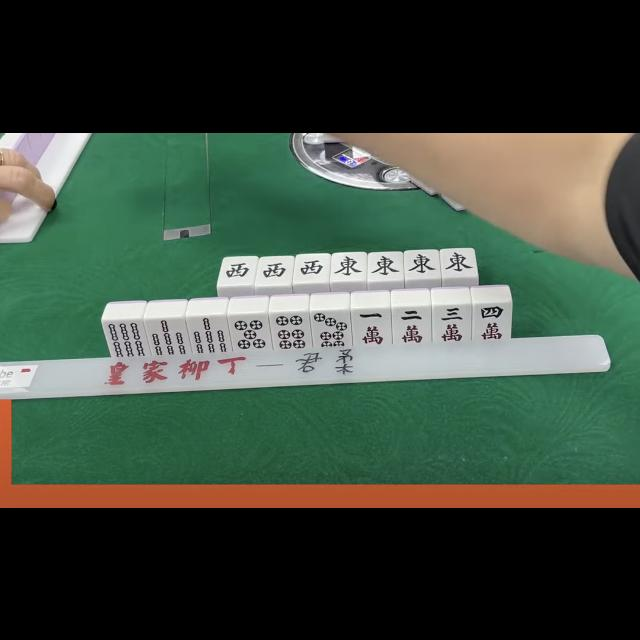b6: (106, 320, 146, 360)
b7: (148, 318, 188, 360), (190, 315, 230, 357)
c1: (352, 308, 390, 350)
c2: (393, 306, 431, 346)
c3: (433, 304, 471, 346)
c4: (472, 302, 512, 343)
d5: (231, 314, 269, 351)
d6: (272, 312, 310, 352)
d7: (310, 310, 352, 348)
we: (441, 248, 477, 276), (404, 250, 440, 278), (332, 252, 366, 280), (369, 252, 403, 280)
ww: (219, 256, 255, 286), (256, 256, 292, 284), (294, 254, 330, 282)
